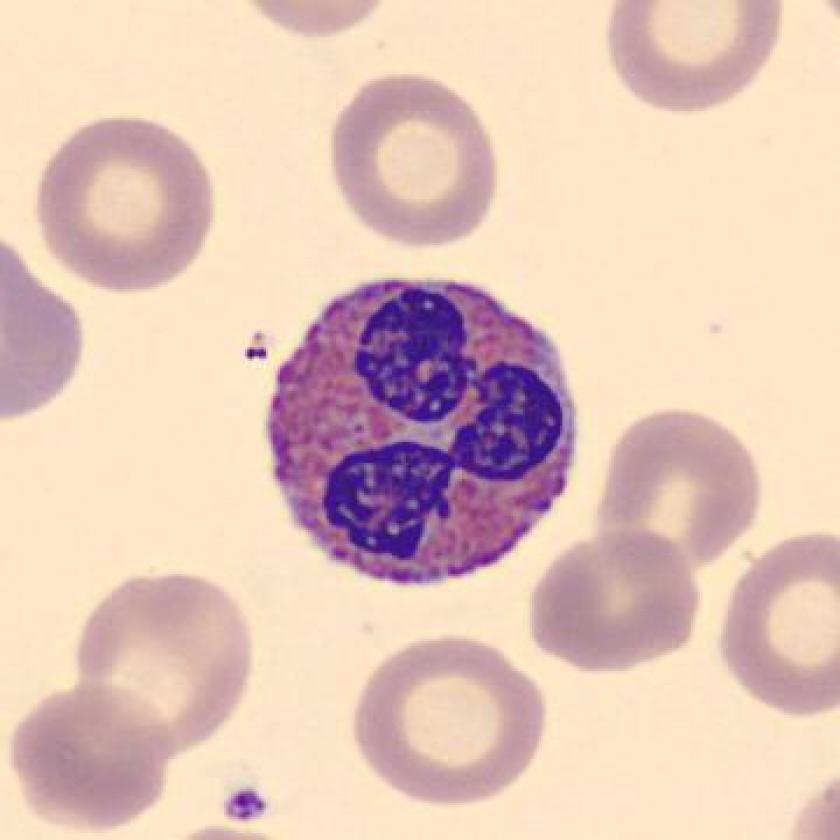eosinophil: (255, 265, 596, 598)
